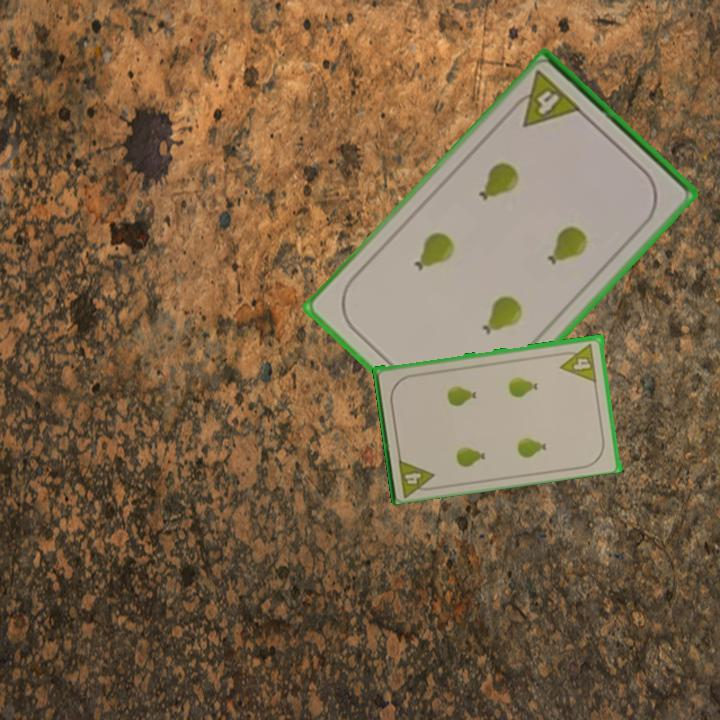4p: (506, 67, 585, 131), (395, 454, 439, 498), (556, 340, 599, 384)
